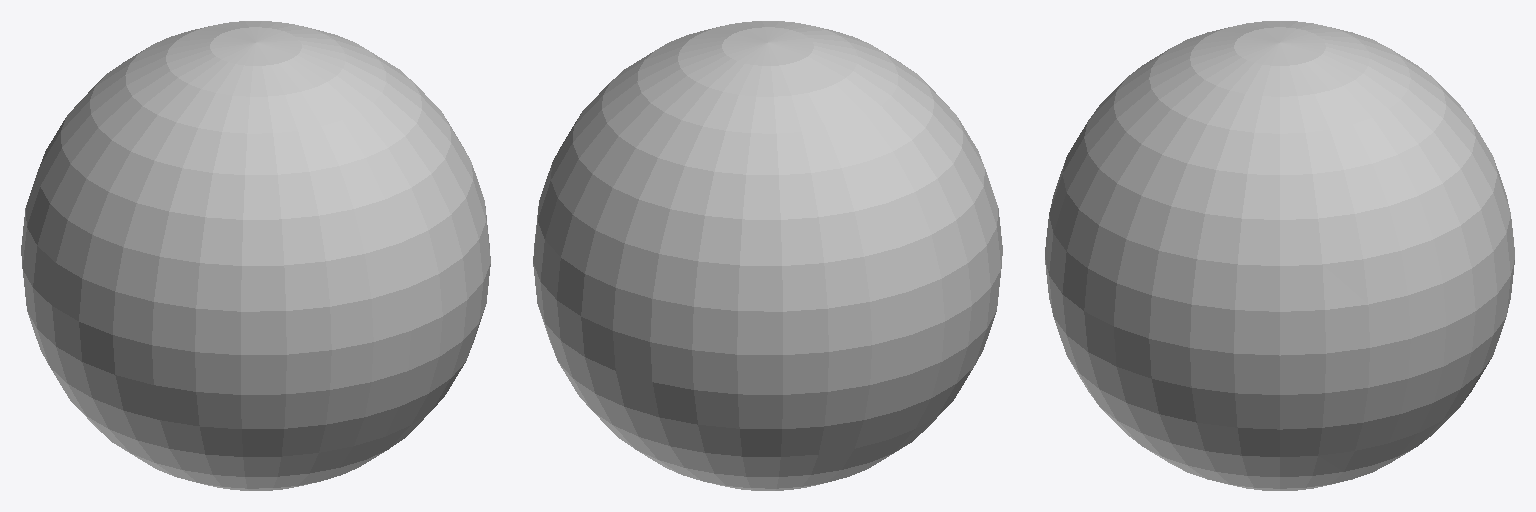
The model's file is small_joint.obj.
3 renders of one model, left to right at view 1: azimuth 30°, elevation 25°; view 2: azimuth 150°, elevation 25°; view 3: azimuth 270°, elevation 25°, orthographic.
Parts seen in each view (by area): view 1: Sphere; view 2: Sphere; view 3: Sphere.
Part boxes in pixels (x1,y1,x2,y2): Sphere: (21,21,490,490); Sphere: (533,21,1002,490); Sphere: (1045,21,1514,490).
Size of the model in its own units: 0.1 by 0.1 by 0.1.